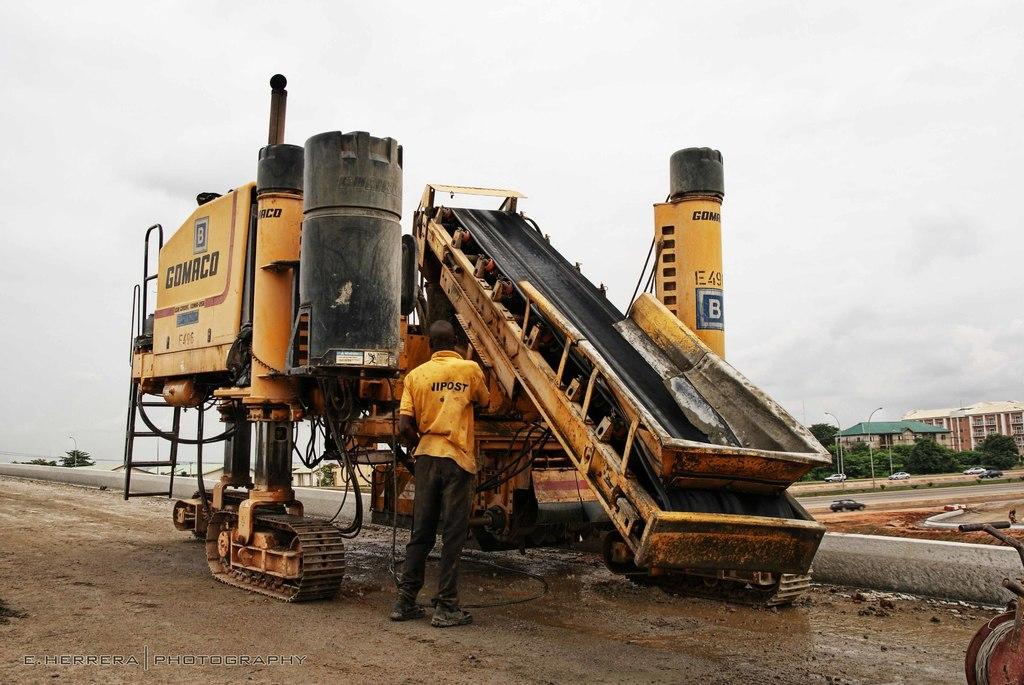Tree: (795, 422, 1023, 481), (57, 448, 95, 466), (315, 463, 334, 487), (25, 457, 55, 466)
